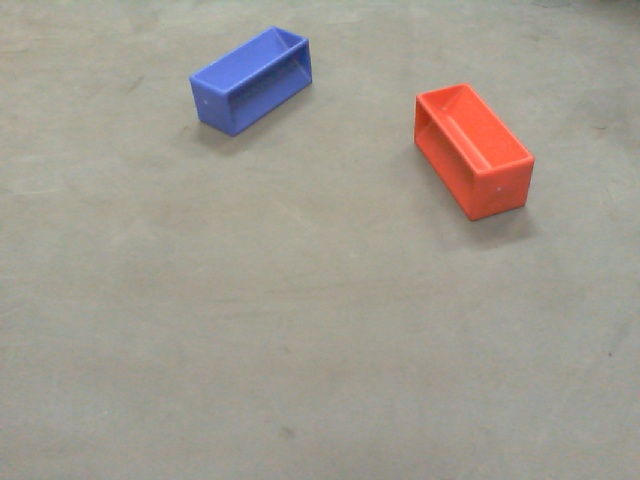BlueSample: (190, 25, 312, 151)
RedSample: (412, 81, 536, 225)
